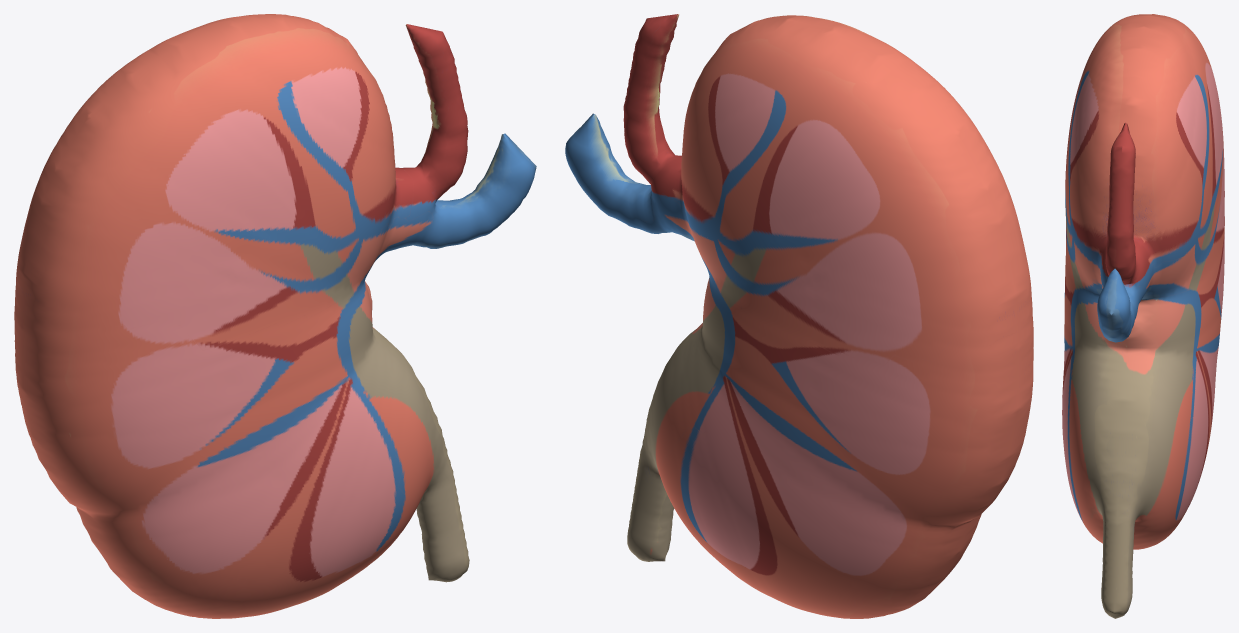
3 renders of one model, left to right at view 1: azimuth 30°, elevation 25°; view 2: azimuth 150°, elevation 25°; view 3: azimuth 270°, elevation 25°, orthographic. The views are drawn at different scales.
Parts seen in each view (by area): view 1: Object_5; view 2: Object_5; view 3: Object_5.
Boxes of the visible parts, x1,y1,x2,y2 form: Object_5: [14, 14, 536, 618]; Object_5: [565, 14, 1033, 618]; Object_5: [1062, 14, 1224, 618].
Bounding box in the file's own units: 2.24 × 2.61 × 0.7613.
Materials: 1 (1 with a texture image).
